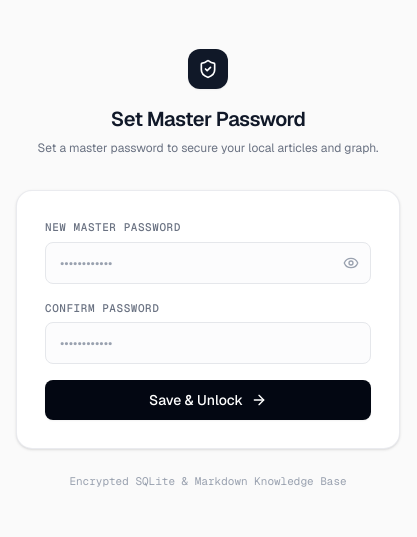
Views: LoginView and ArchiveView › LoginView.vue › displays error when password is too short in setup mode
Type "123" into the password field with placeholder "••••••••••••" below "New Master Password". click: point(208, 263)
box: [45,242,371,284]
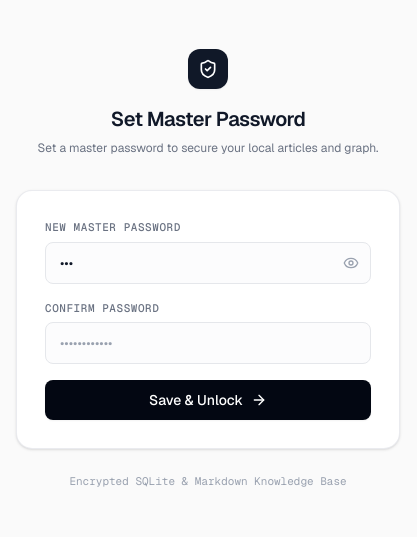
Type "123" into the password field with placeholder "••••••••••••". click: point(208, 343)
box: [45,322,371,364]
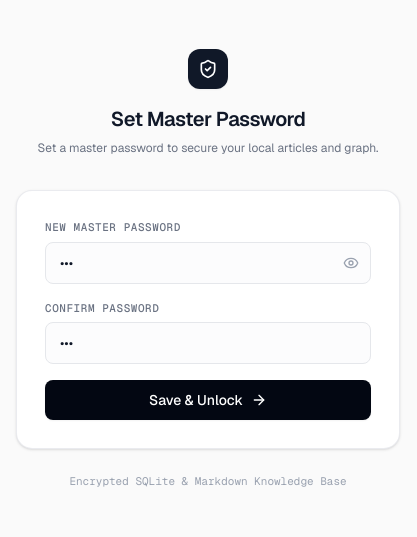
Submit the form, box [45,219,371,420]
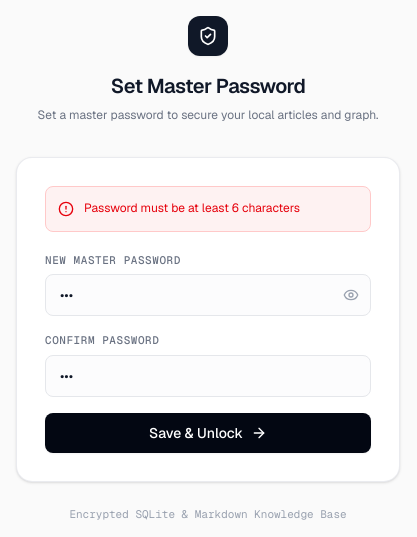
Check: the text "Password must be at least 6 characters" is shown, box [84,199,300,219]
